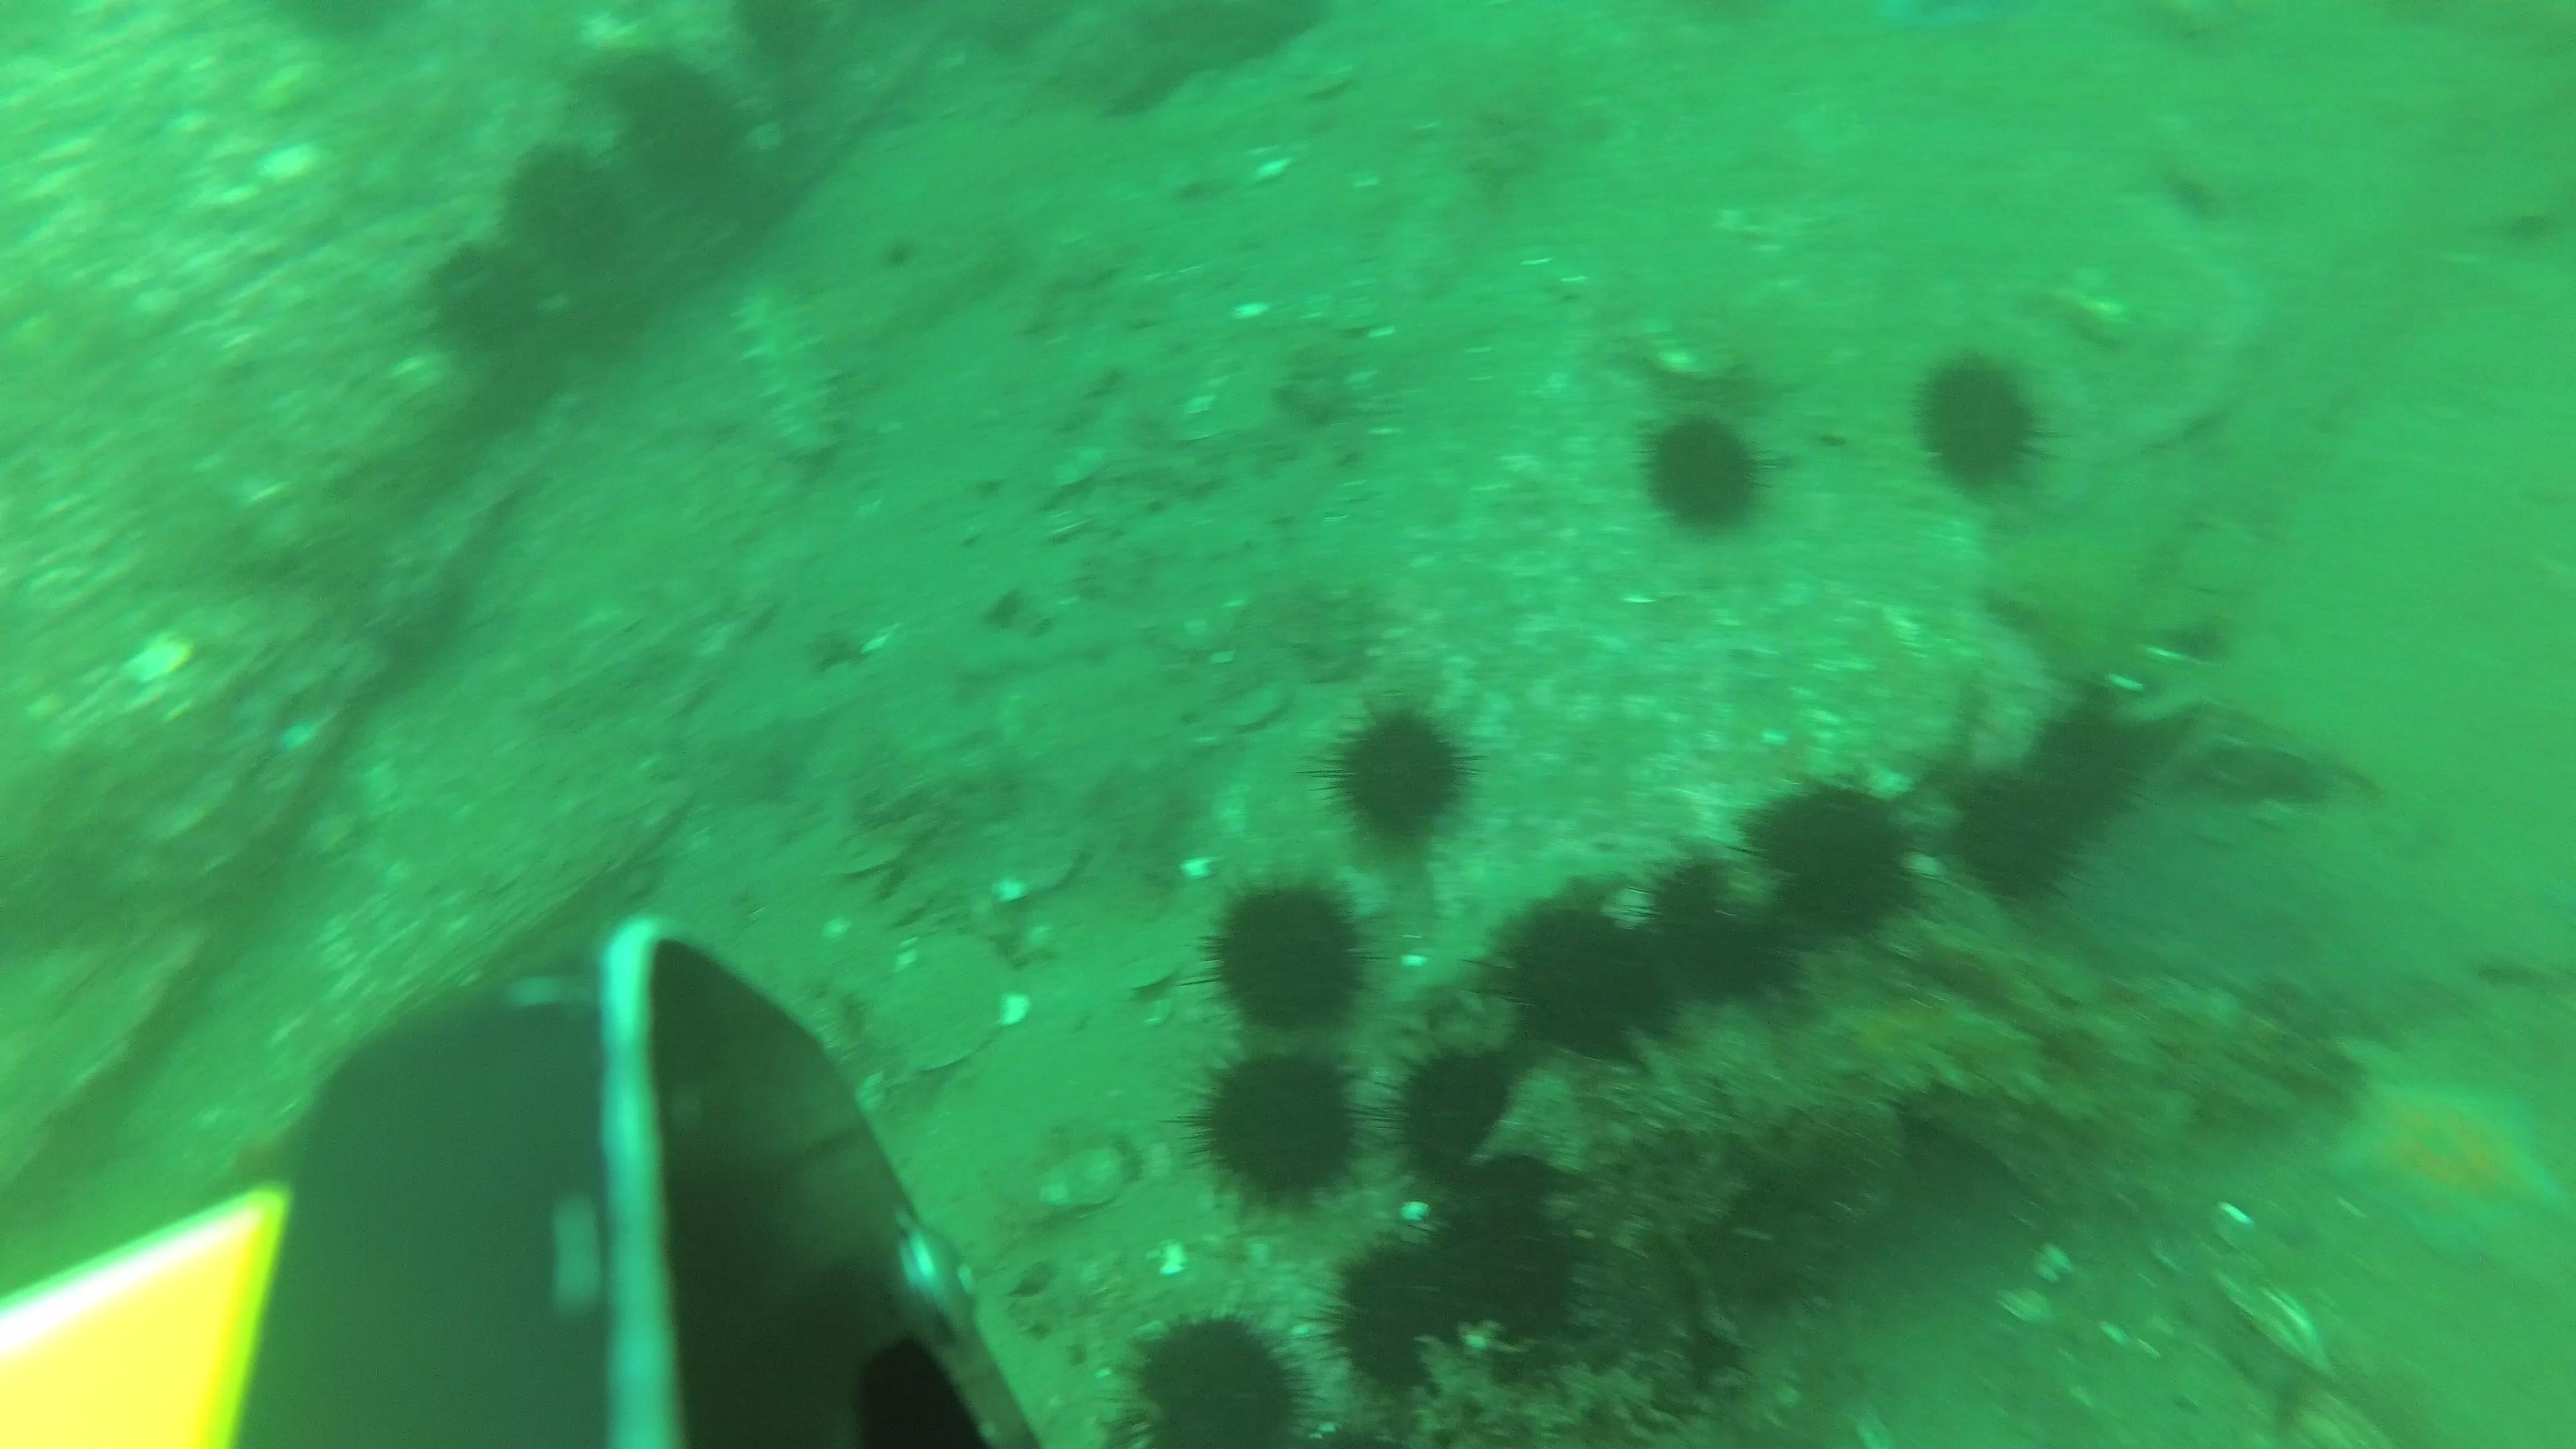echinus: (1488, 897, 1675, 1063), (1741, 775, 1925, 938), (1187, 1044, 1364, 1210), (1200, 874, 1375, 1039), (1118, 1309, 1307, 1442), (1640, 849, 1796, 1005), (1422, 1194, 1587, 1341), (1322, 1237, 1472, 1396), (1323, 699, 1477, 851), (1389, 1042, 1523, 1192), (1911, 349, 2047, 495), (609, 57, 747, 198), (1950, 770, 2088, 906), (501, 142, 633, 276), (2020, 699, 2151, 832), (1638, 410, 1771, 538), (421, 241, 547, 359), (725, 0, 837, 73)
holothurian: (725, 276, 849, 476)
scallop: (860, 934, 1016, 1079), (1293, 53, 1362, 101)
starfish: (2330, 1062, 2565, 1261), (1985, 499, 2192, 688)
